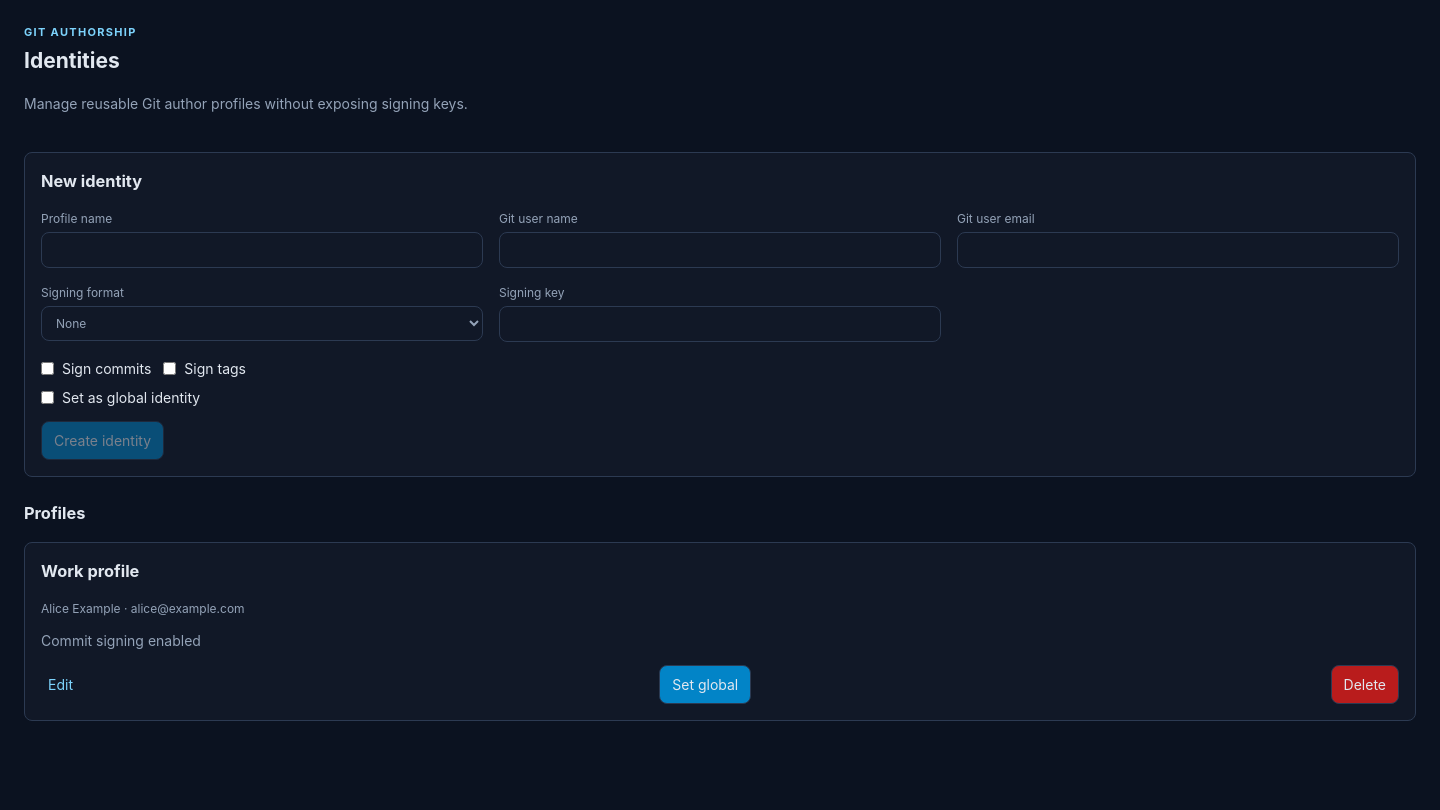
Test: IdentitiesView › loads and updates every signing field without rendering the key as text
Click the button with aria-label "Edit Work profile".
click(60, 685)  # box [41,669,80,700]
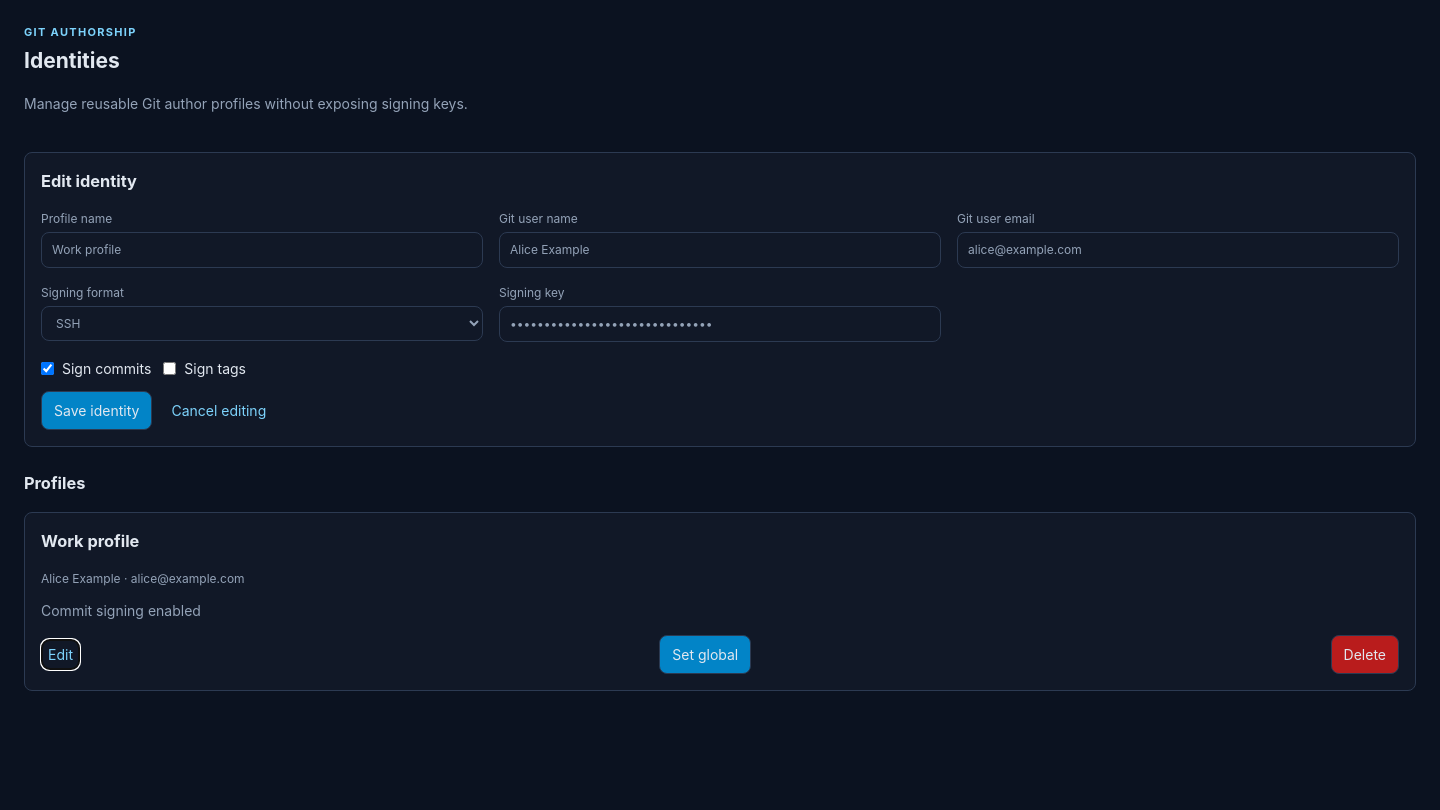
Check: the dropdown labelled "Signing format" shows "SSH", box [41,306,483,341]
Check: the password field labelled "Signing key" holds "C:/Users/Alice/.ssh/id_ed25519", box [499,306,941,342]
Check: the checkbox labelled "Sign commits" is checked, box [41,362,54,375]
Replace the text in the field labelled "Profile name" with "Primary work profile" at (262, 250), box [41,232,483,268]
Replace the text in the field labelled "Git user email" with "alice@work.test" at (1178, 250), box [957,232,1399,268]
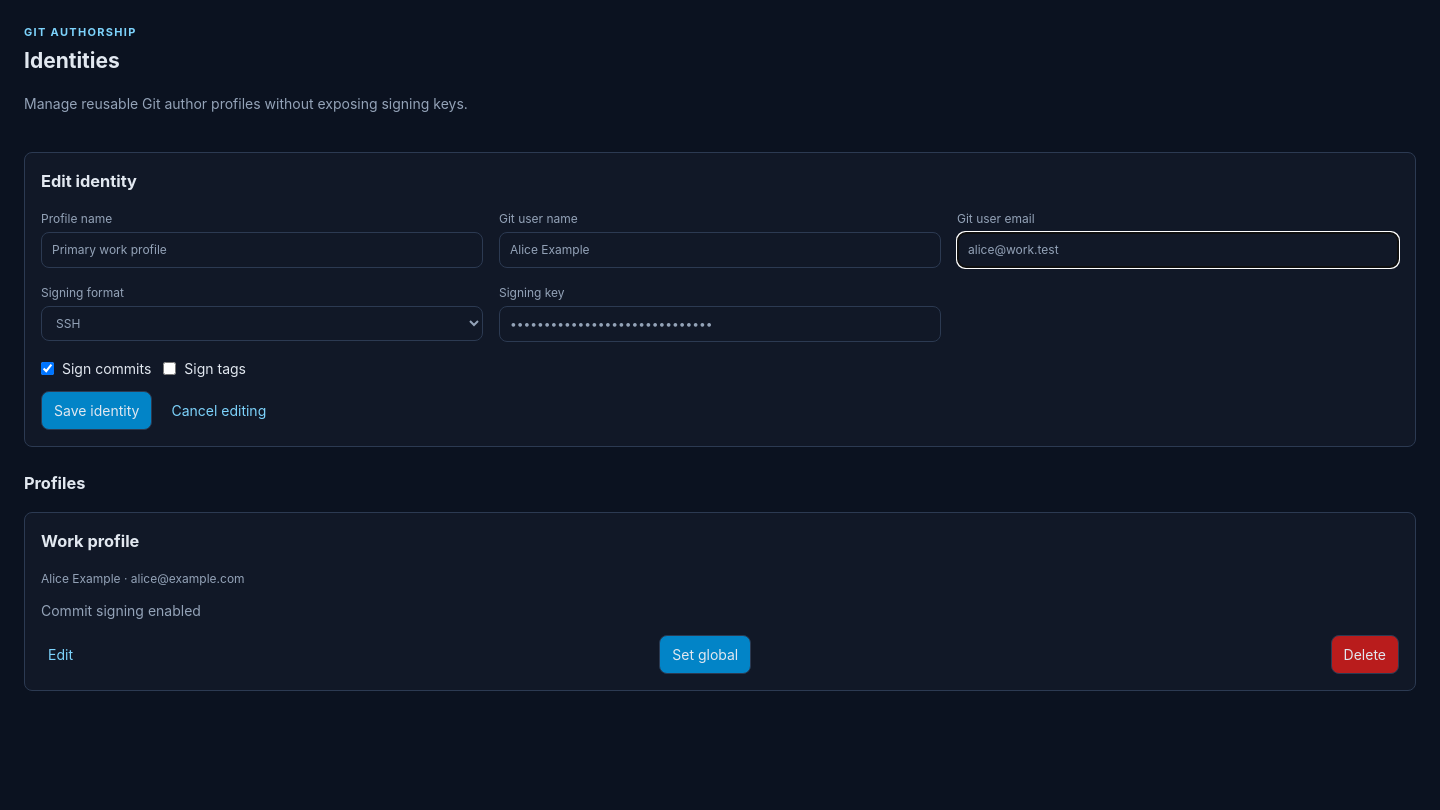
Select "OpenPGP" in the dropdown labelled "Signing format" at (262, 324), box [41,306,483,341]
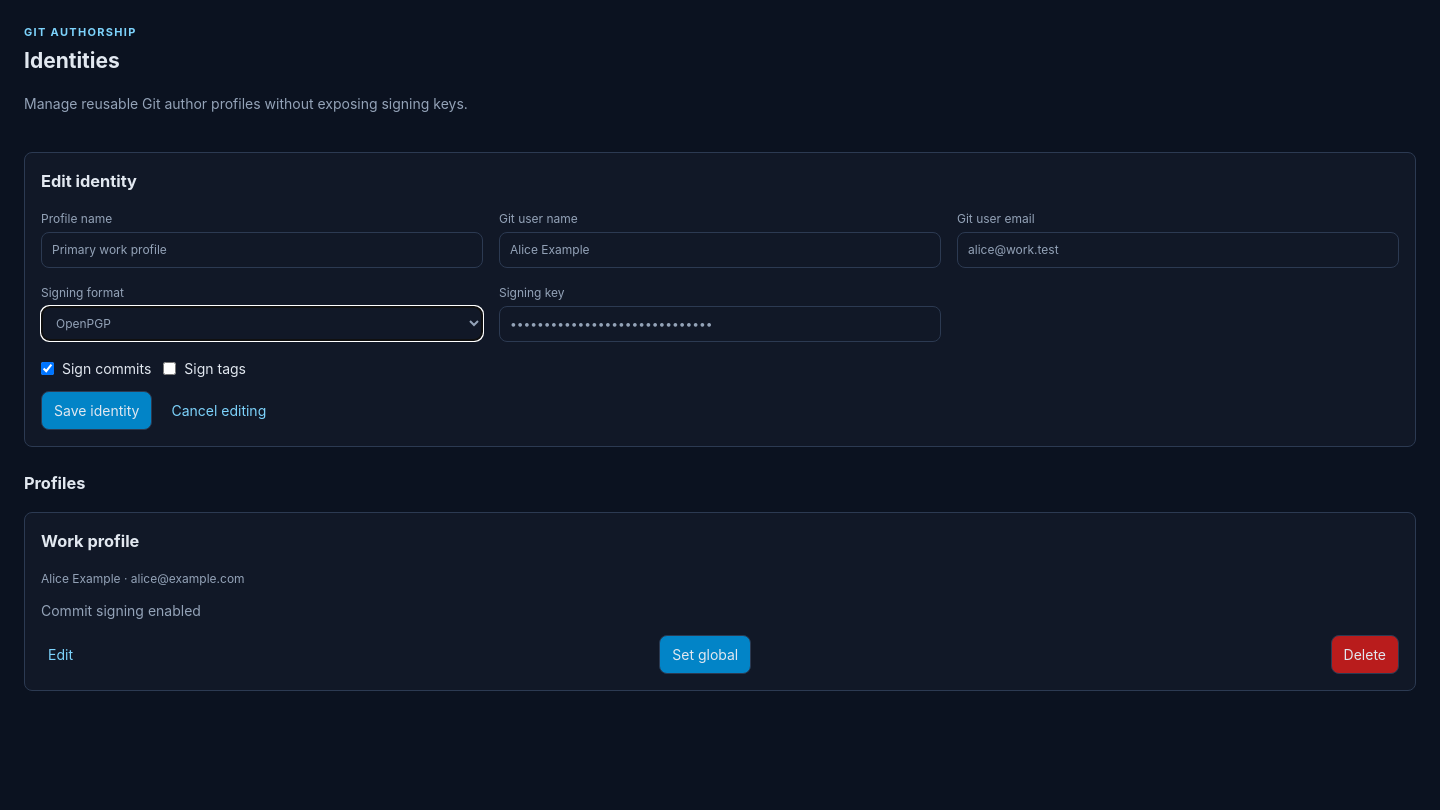
Click the checkbox labelled "Sign commits".
click(48, 369)  # box [41,362,54,375]
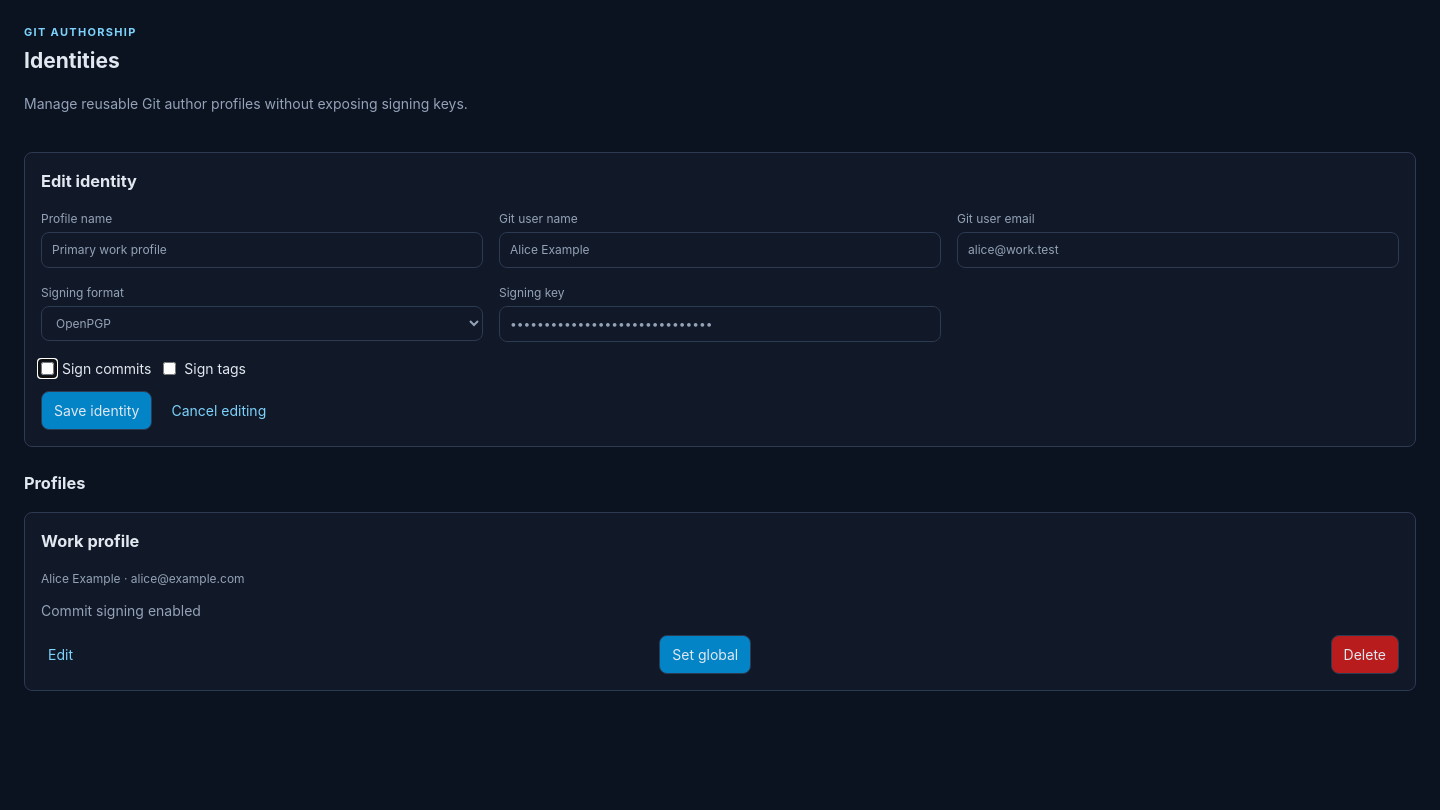
Click the checkbox labelled "Sign tags".
click(170, 369)  # box [163,362,176,375]
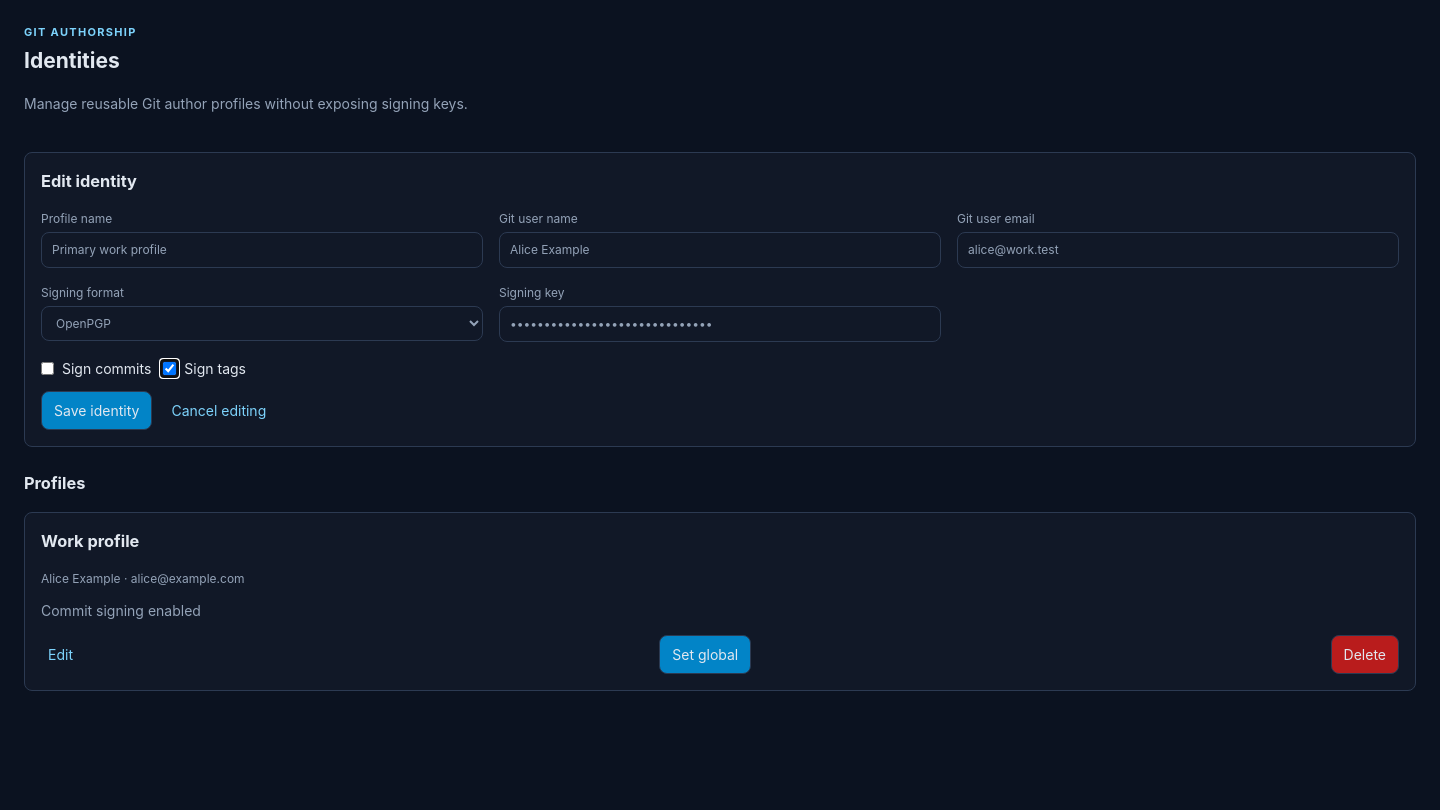
Click the button "Save identity".
click(97, 411)  # box [41,391,152,430]
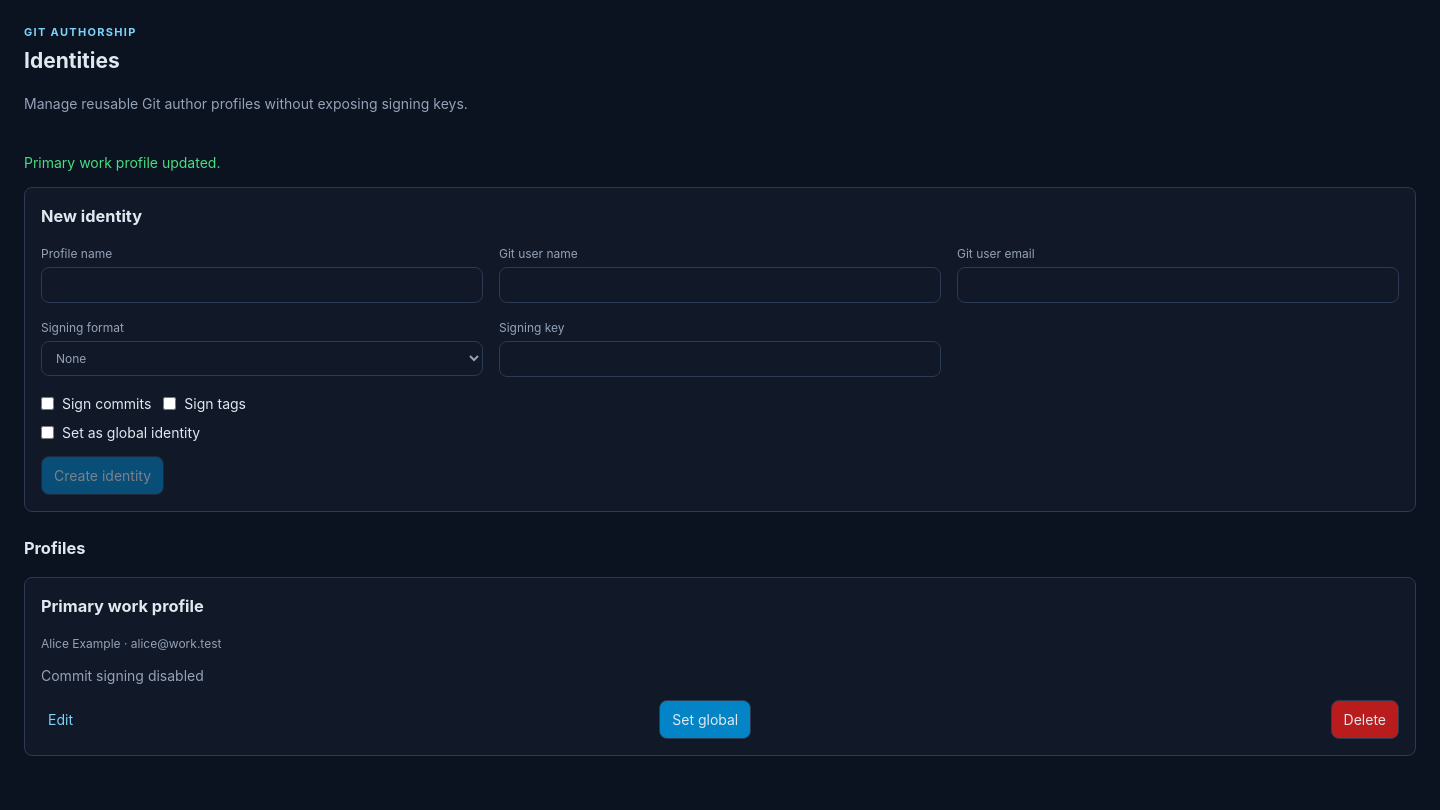
Check: the heading "Primary work profile" is shown, box [41,594,221,619]
